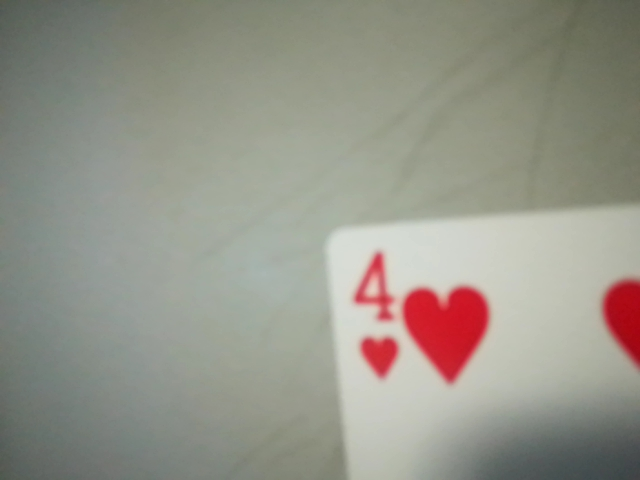hx 4: (336, 236, 405, 391)
